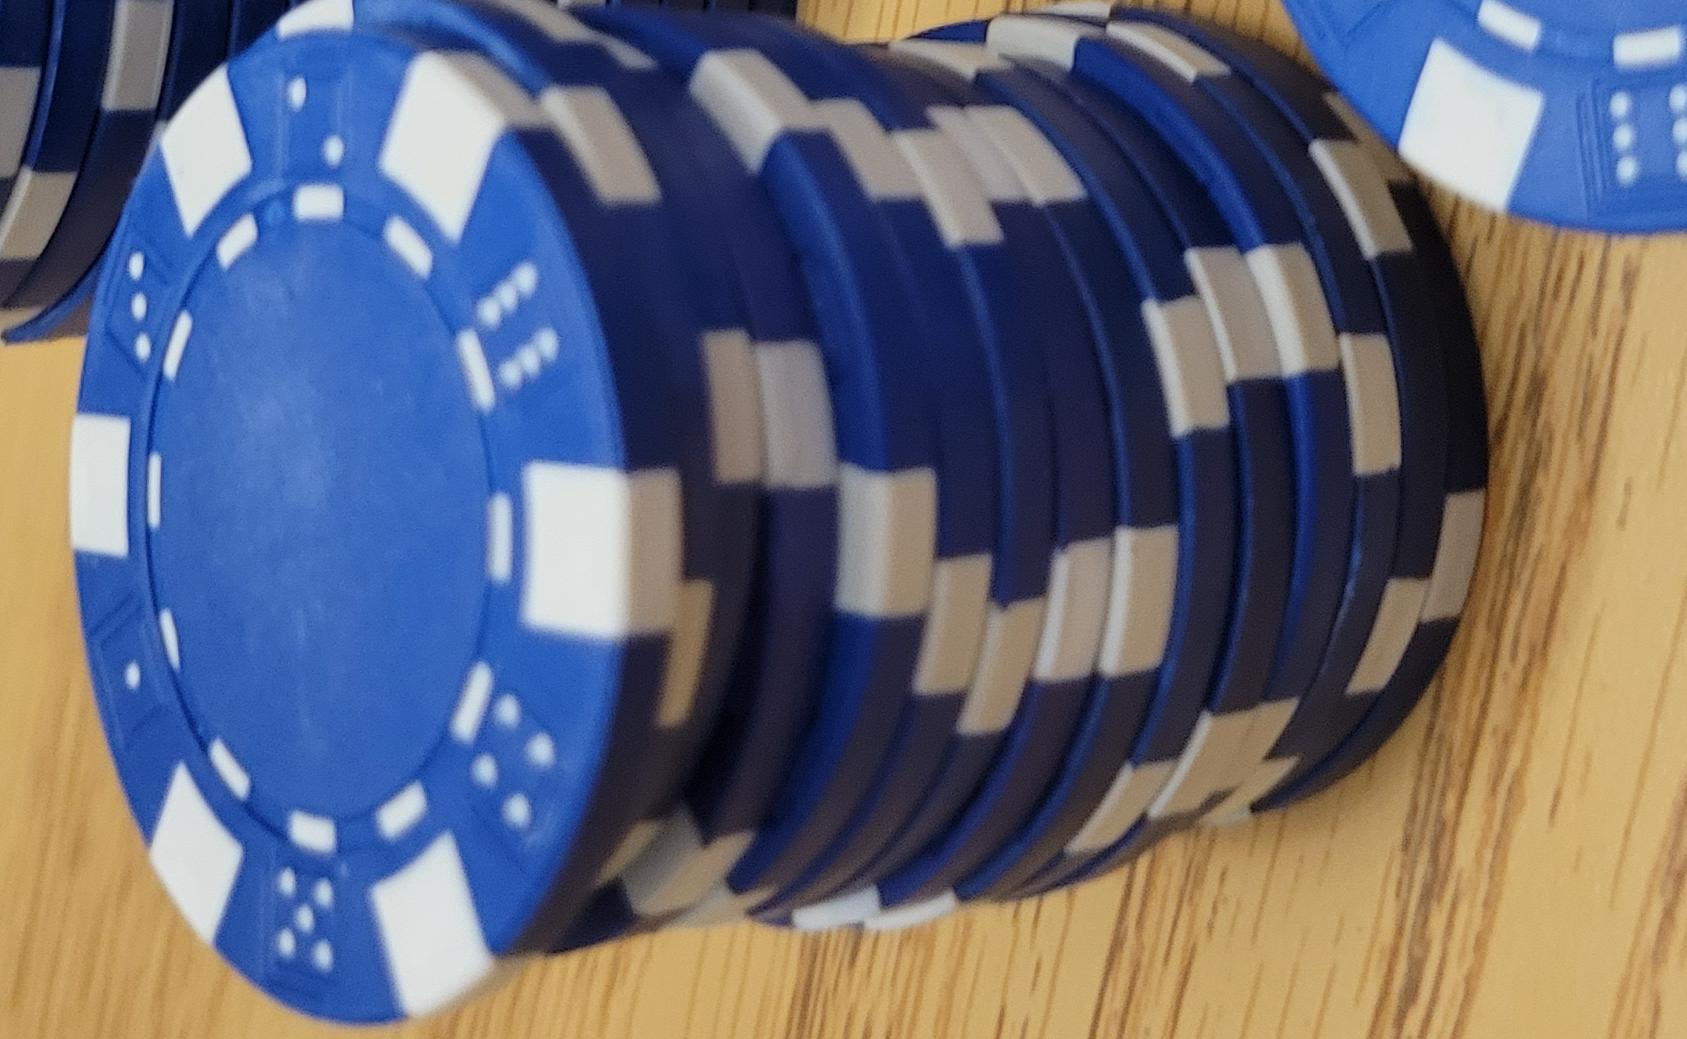Chip: (1, 582, 956, 1039)
